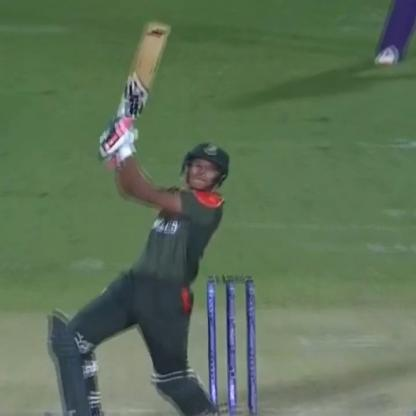bat: (112, 13, 166, 134)
